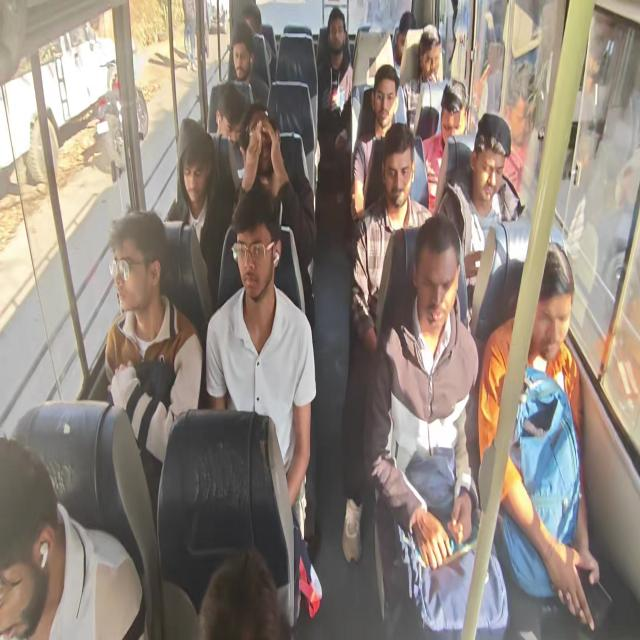person: (101, 3, 599, 636), (363, 213, 509, 638), (477, 241, 600, 630), (341, 122, 434, 563), (205, 188, 316, 536), (104, 210, 202, 534), (0, 435, 147, 639), (232, 102, 317, 326), (436, 112, 524, 328), (164, 118, 234, 316), (350, 64, 406, 220), (197, 546, 281, 639), (417, 79, 469, 213), (499, 60, 542, 214), (316, 7, 353, 159), (398, 24, 447, 134), (211, 80, 249, 196), (228, 21, 270, 108), (242, 2, 276, 87), (214, 80, 249, 144), (392, 10, 416, 77)
